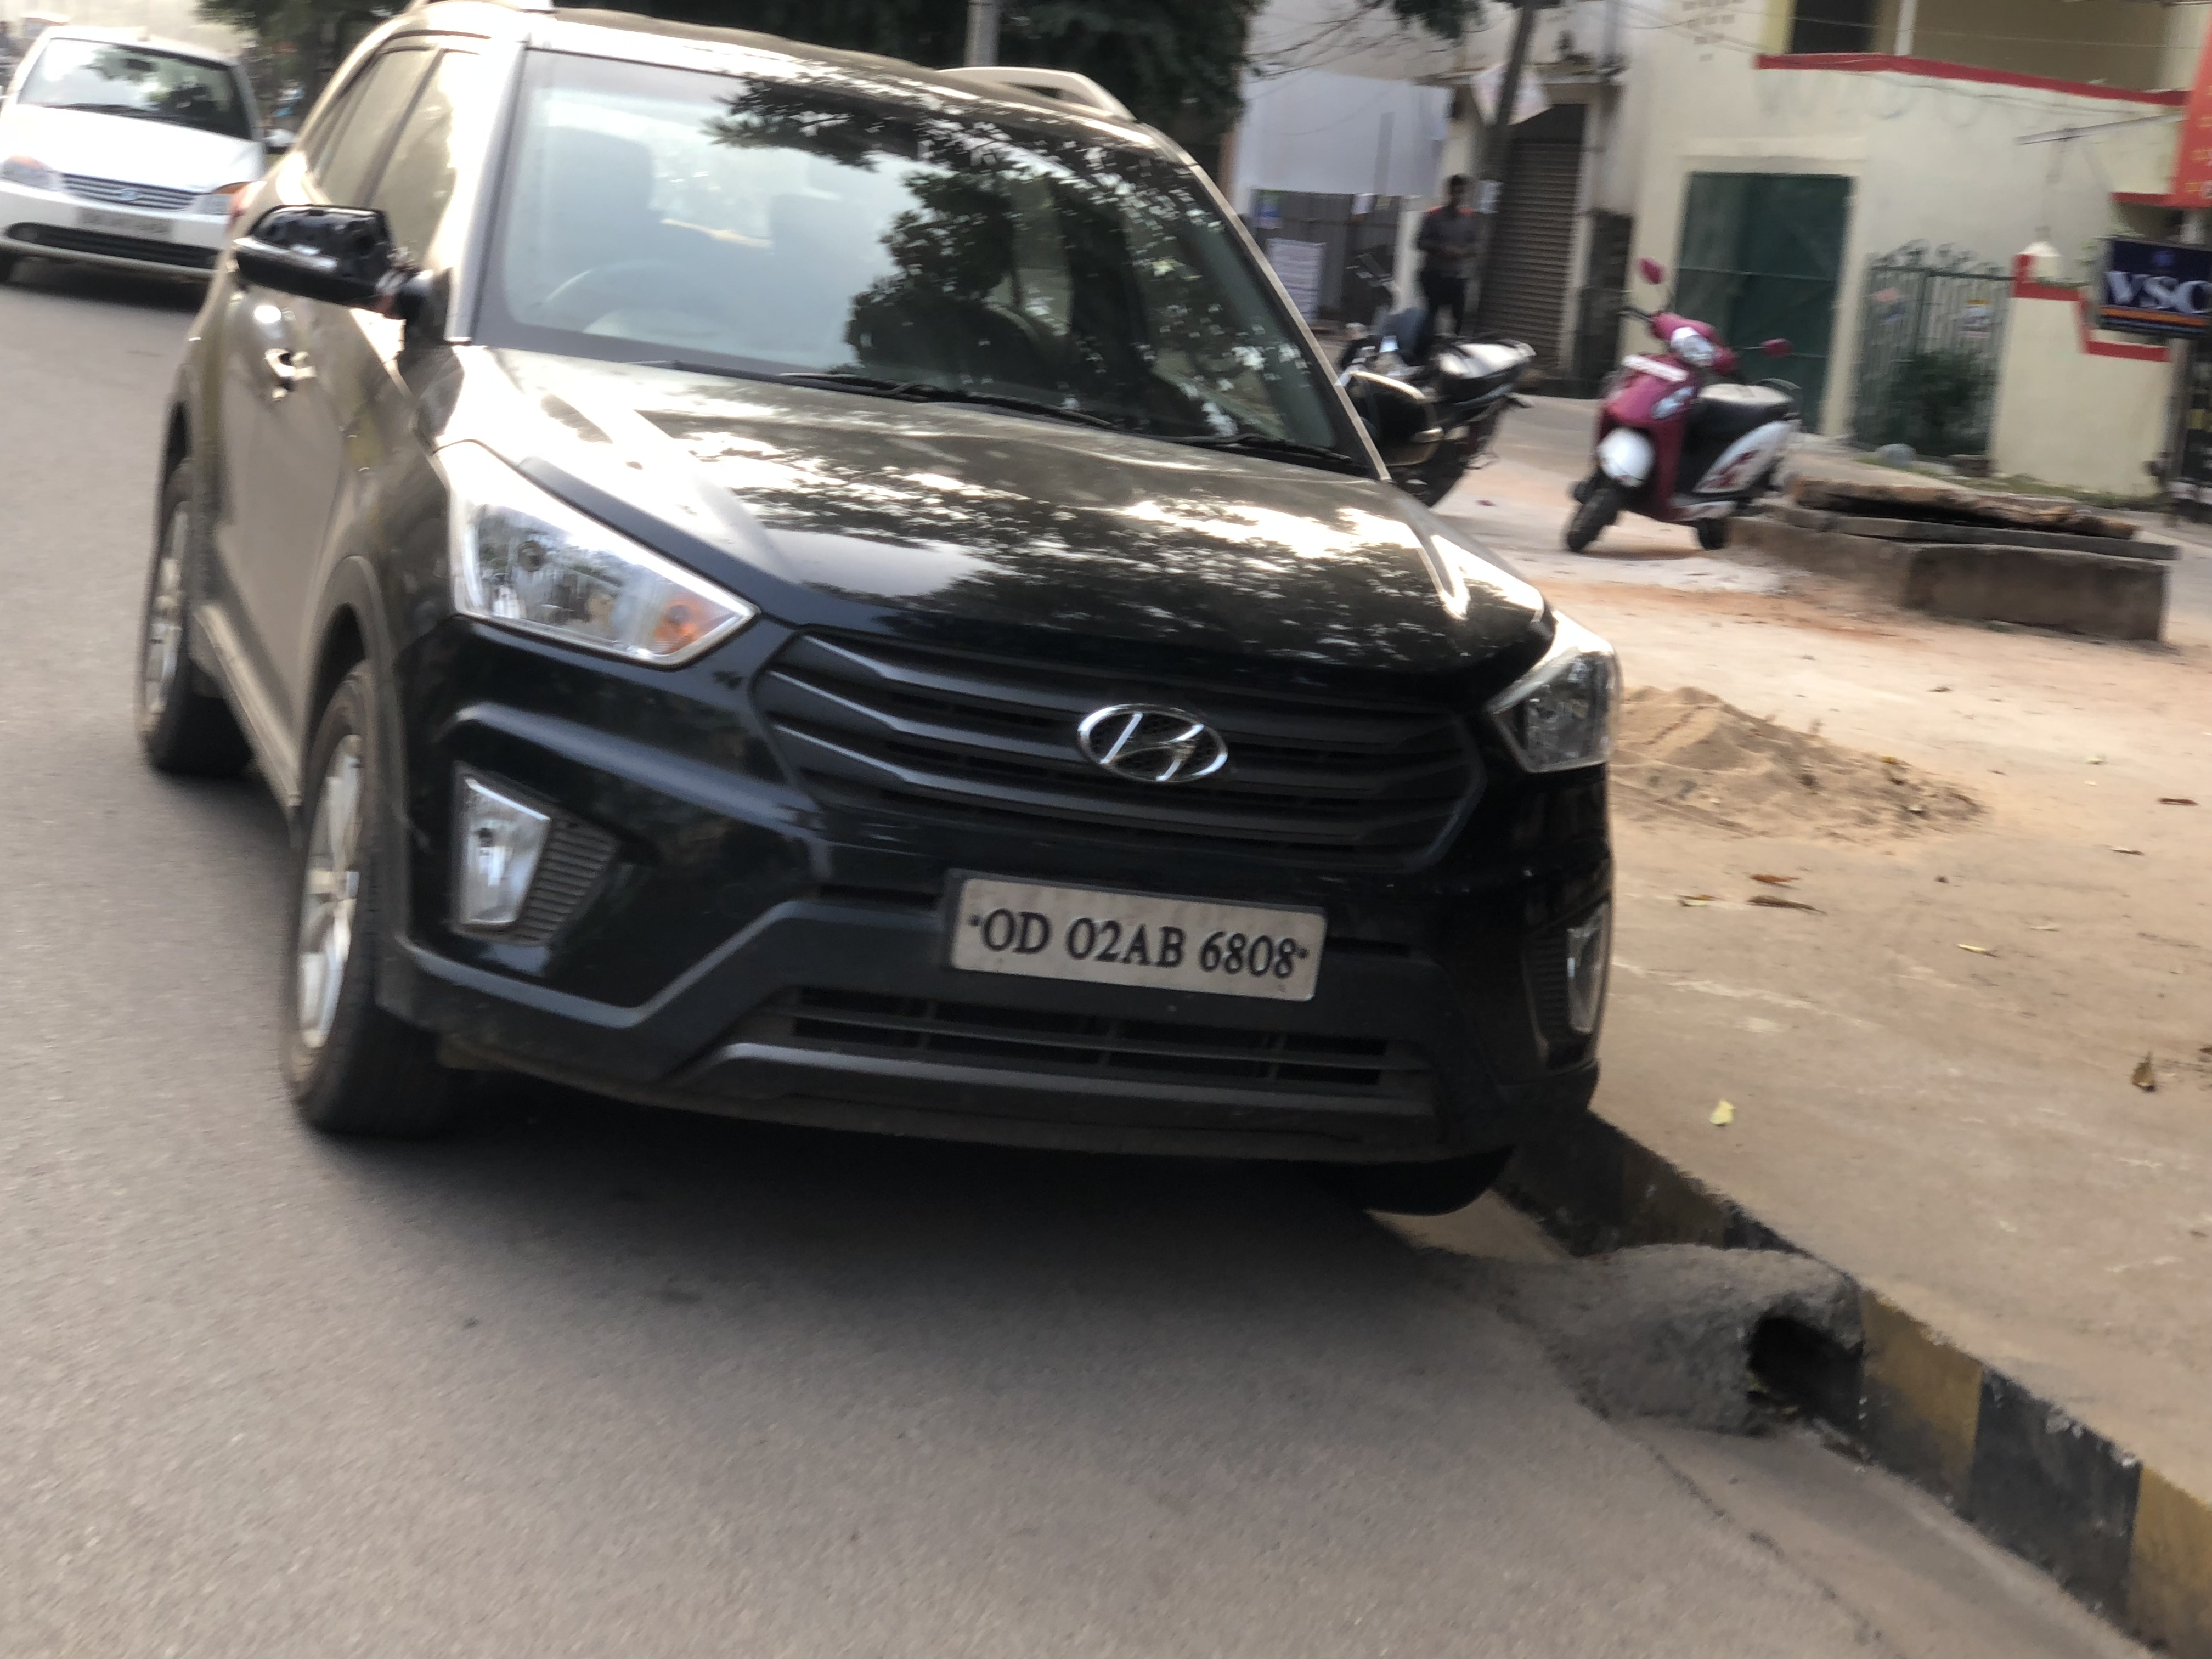licenseplate: (923, 859, 1333, 1024)
